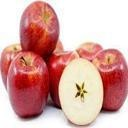apple: (0, 43, 32, 95)
